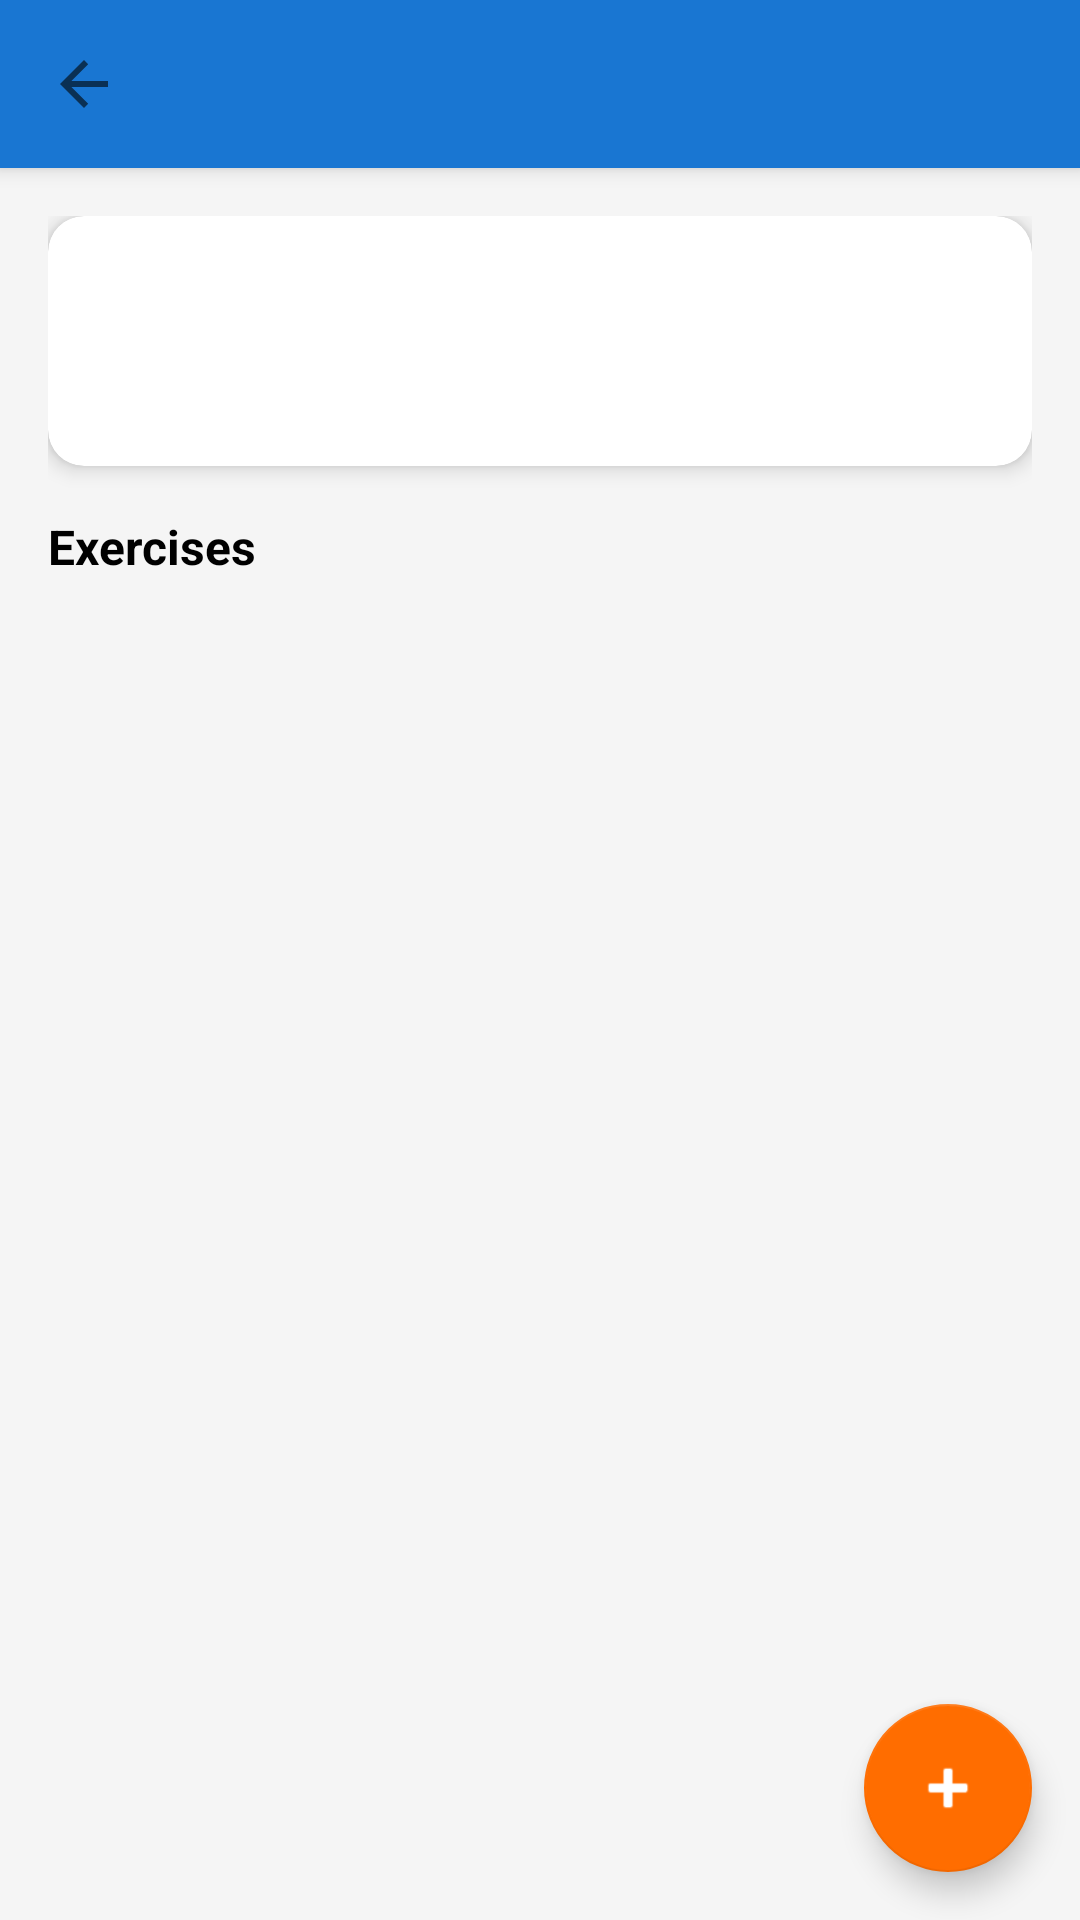

Screen size 1080×1920. Icon name, then its center in pixels as [x,y]:
Add Exercise: [948,1788]
